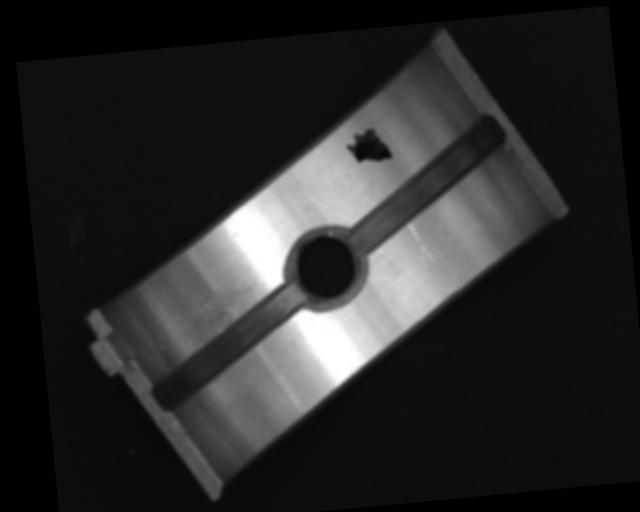blot: (344, 126, 392, 165)
gap: (342, 115, 513, 256), (140, 286, 313, 412)
hole: (283, 224, 368, 314)
nick: (406, 217, 436, 270)
scratch: (168, 279, 262, 352)
